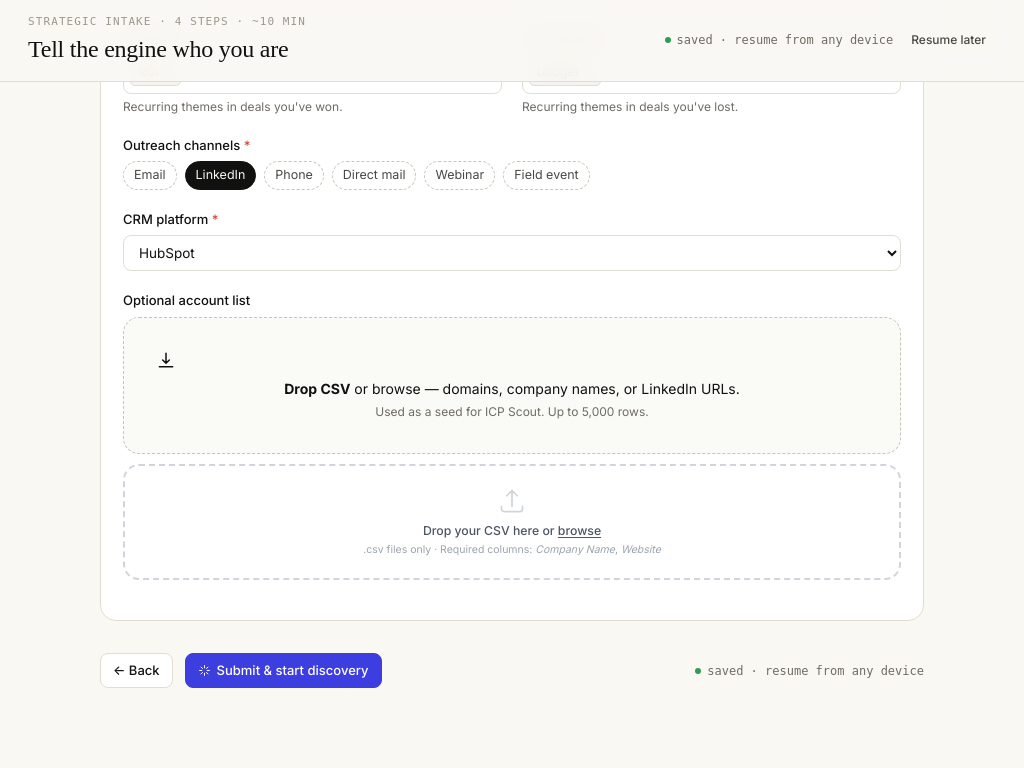
IntakeForm — Step 4 final submit › shows clarifying questions modal when backend returns needs_clarification
(page scrolled)
What coordinates should you click on to do the following:
click the button "Submit & start discovery"
I would click on:
 (283, 671)
Its box is [185,653,382,688].
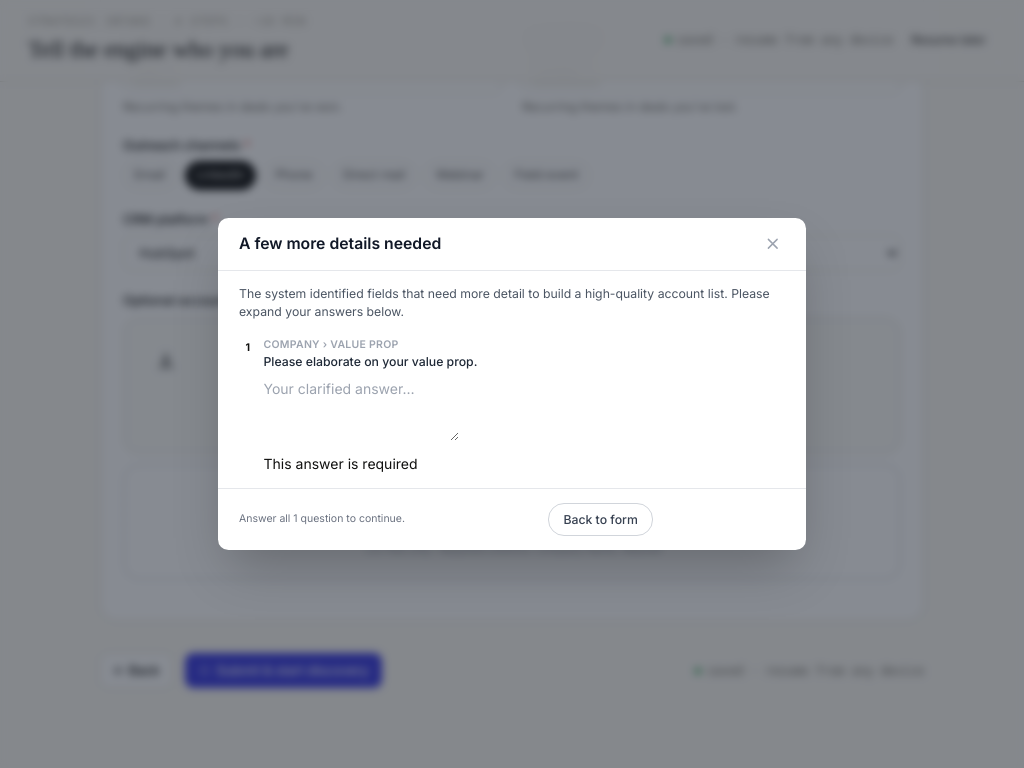
Result: the dialog is shown at [218,218,806,550]
Result: the text "Please elaborate on your value prop." is shown at [264,354,477,369]
